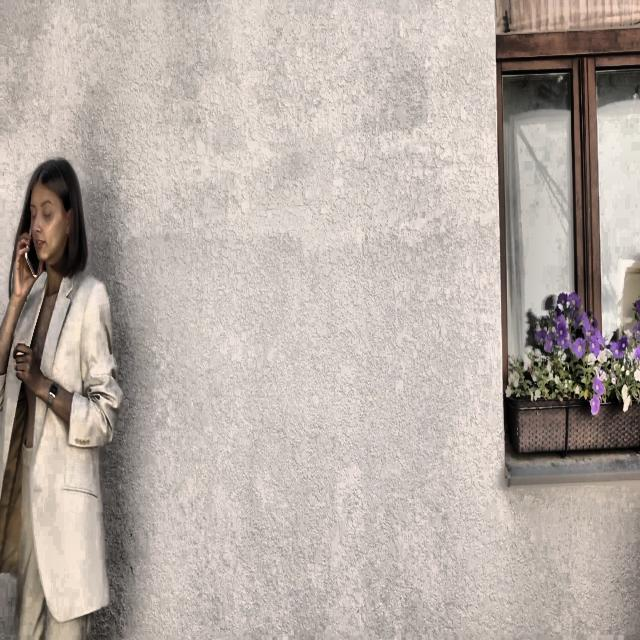Phone: (25, 220, 41, 278)
